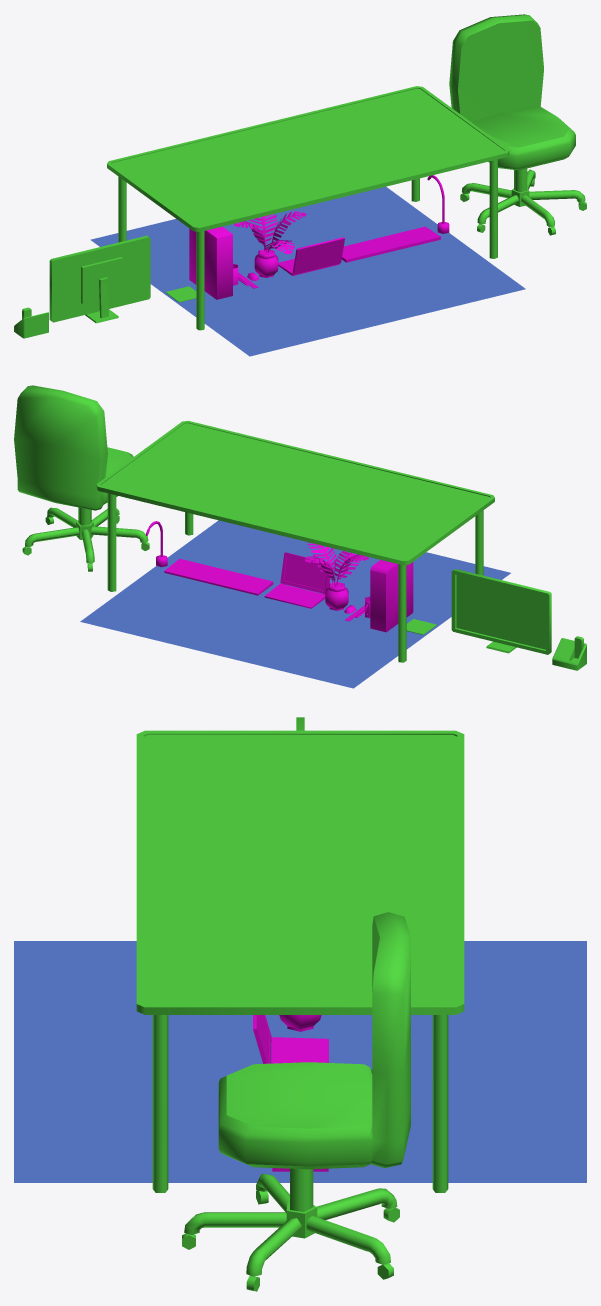
The picture shows the model from 3 angles, top to bottom: view 1: azimuth 30°, elevation 25°; view 2: azimuth 150°, elevation 25°; view 3: azimuth 270°, elevation 25°; orthographic projection. The views are drawn at different scales.
Visible parts, largest first — view 1: table, ground, chair, screen, computer, plant, keyboard, laptop, phone; view 2: table, ground, chair, screen, computer, laptop, keyboard, plant, phone; view 3: table, ground, chair, laptop.
Part boxes in pixels (x1=…): table: x1=107, y1=86, x2=509, y2=330; ground: x1=90, y1=186, x2=525, y2=356; chair: x1=449, y1=14, x2=586, y2=235; screen: x1=49, y1=235, x2=150, y2=323; computer: x1=189, y1=226, x2=232, y2=299; plant: x1=234, y1=211, x2=306, y2=277; keyboard: x1=341, y1=226, x2=440, y2=262; laptop: x1=278, y1=237, x2=344, y2=275; phone: x1=14, y1=307, x2=48, y2=338; table: x1=96, y1=420, x2=494, y2=662; ground: x1=80, y1=520, x2=510, y2=688; chair: x1=14, y1=385, x2=149, y2=571; screen: x1=451, y1=569, x2=551, y2=654; computer: x1=370, y1=560, x2=413, y2=632; laptop: x1=264, y1=552, x2=331, y2=608; keyboard: x1=164, y1=558, x2=273, y2=595; plant: x1=304, y1=542, x2=368, y2=610; phone: x1=552, y1=636, x2=586, y2=670; table: x1=136, y1=730, x2=464, y2=1192; ground: x1=14, y1=941, x2=586, y2=1182; chair: x1=182, y1=912, x2=410, y2=1291; laptop: x1=253, y1=1015, x2=328, y2=1063.
Bounding box in the file's own units: 141 × 42.59 × 70.
